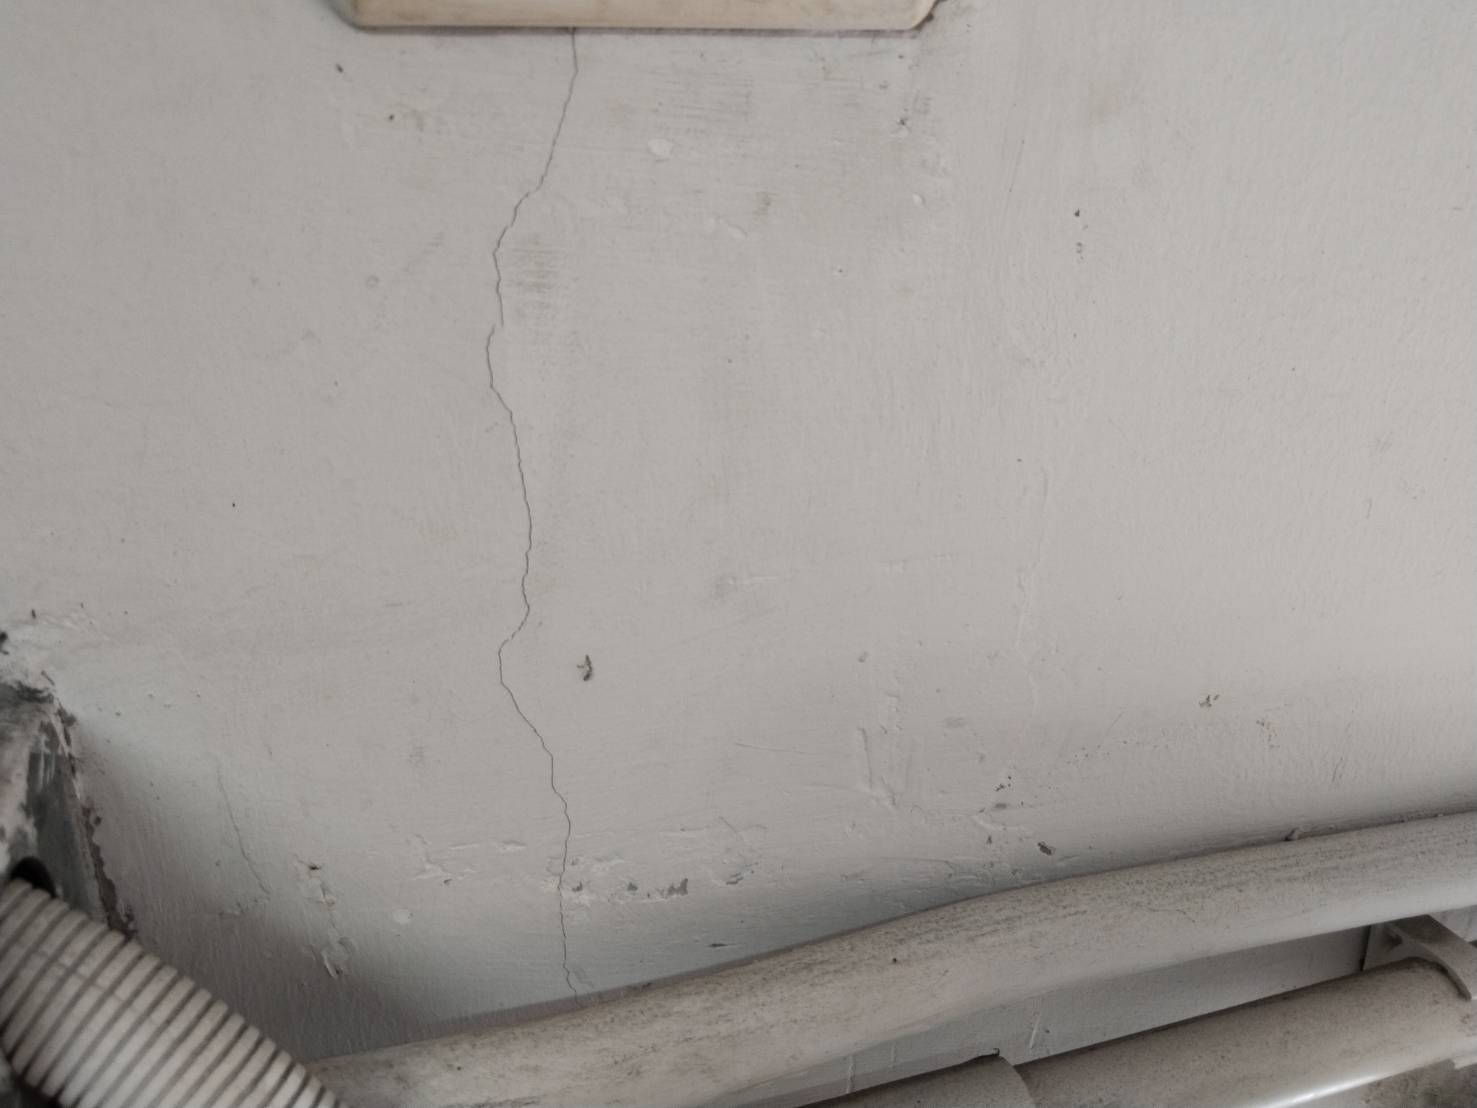Low: (445, 34, 589, 1006)
